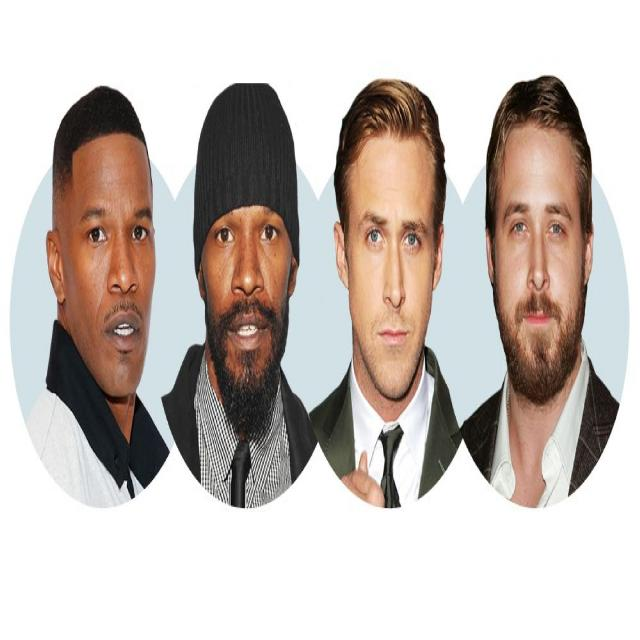beard: (205, 294, 289, 438), (494, 280, 588, 405)
hair: (334, 78, 447, 240), (486, 74, 593, 239), (52, 84, 149, 193)
